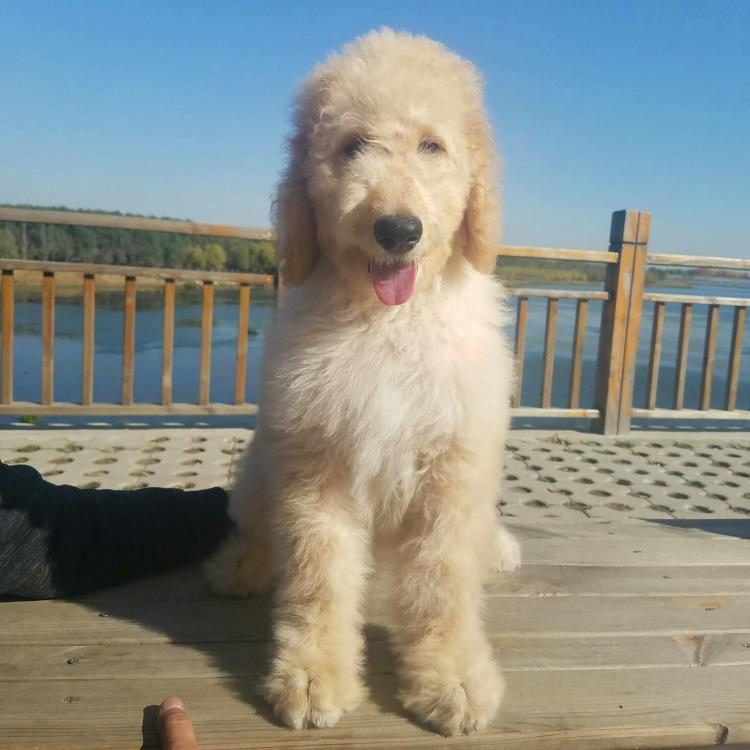dog: (200, 21, 526, 735)
